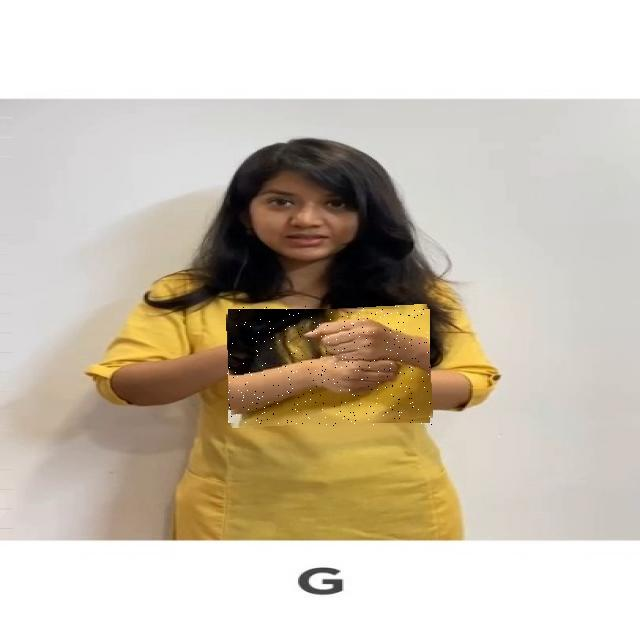G: (227, 306, 432, 426)
